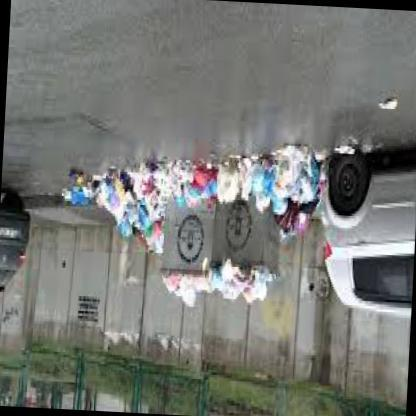Garbage: (54, 151, 164, 265), (274, 132, 320, 263), (135, 158, 280, 199), (158, 272, 273, 310), (211, 268, 264, 308), (168, 273, 212, 302), (216, 152, 238, 202), (52, 180, 84, 211), (249, 164, 277, 194), (89, 172, 109, 202), (239, 277, 260, 305), (190, 155, 211, 183), (164, 162, 186, 188), (221, 274, 242, 300), (190, 165, 212, 188), (179, 278, 196, 306), (180, 280, 198, 306), (120, 221, 134, 244), (70, 166, 84, 186)
